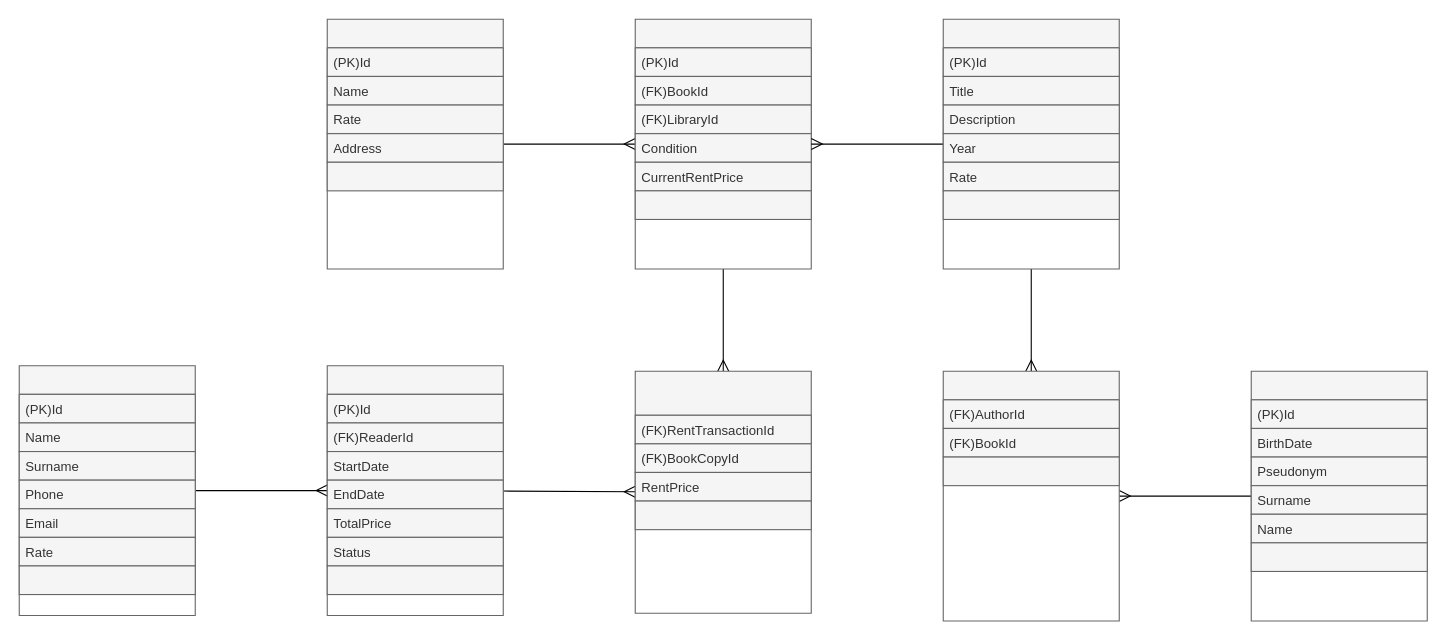
Some shapes in this 1447 by 640 pixel diagram are drawn without their labels. Each missing label, with the box of its shape:
Author: (1250, 370, 1427, 621)
AuthorBook: (942, 370, 1119, 621)
Book: (942, 18, 1119, 269)
BookCopy: (634, 18, 811, 269)
Library: (326, 18, 503, 269)
Reader: (18, 365, 195, 615)
RentTransaction: (326, 365, 503, 615)
RentTransaction BookCopy: (634, 370, 811, 613)
